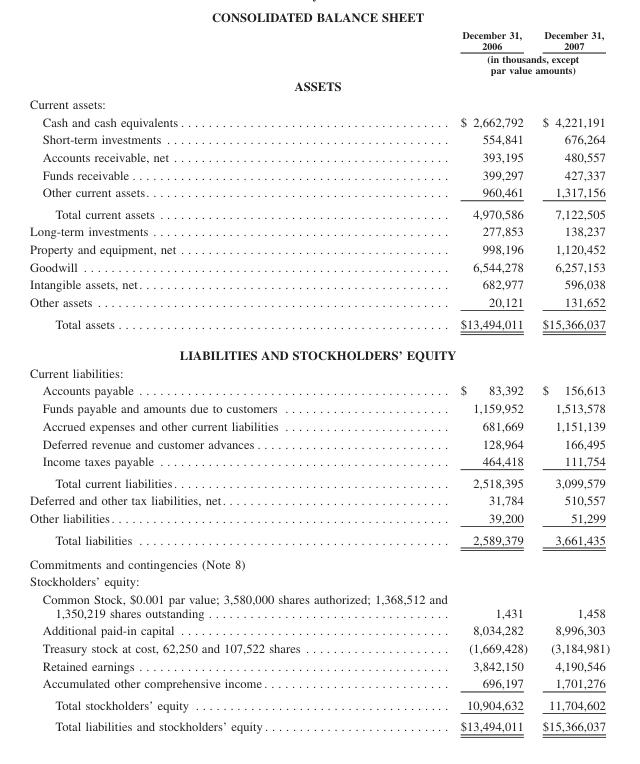table: (29, 29, 609, 733)
table column: (29, 29, 453, 733), (453, 29, 534, 733), (534, 29, 609, 733)
table column header: (29, 29, 609, 76)
table projected row header: (29, 338, 609, 363), (29, 551, 609, 572), (29, 76, 609, 94), (29, 94, 609, 112), (29, 363, 609, 381), (29, 572, 609, 589)
table row: (29, 589, 609, 621), (29, 312, 609, 338), (29, 51, 609, 76), (29, 338, 609, 363), (29, 528, 609, 551), (29, 29, 609, 51), (29, 693, 609, 715), (29, 551, 609, 572), (29, 202, 609, 222), (29, 471, 609, 491), (29, 508, 609, 528), (29, 183, 609, 202), (29, 293, 609, 312), (29, 452, 609, 471), (29, 674, 609, 693), (29, 76, 609, 94), (29, 94, 609, 112), (29, 112, 609, 130), (29, 147, 609, 165), (29, 165, 609, 183), (29, 239, 609, 257), (29, 257, 609, 275), (29, 275, 609, 293), (29, 363, 609, 381), (29, 381, 609, 399), (29, 416, 609, 434), (29, 434, 609, 452), (29, 638, 609, 656), (29, 656, 609, 674), (29, 715, 609, 733), (29, 130, 609, 147), (29, 222, 609, 239), (29, 399, 609, 416), (29, 491, 609, 508), (29, 572, 609, 589), (29, 621, 609, 638)
table spanning cell: (453, 51, 609, 76)
